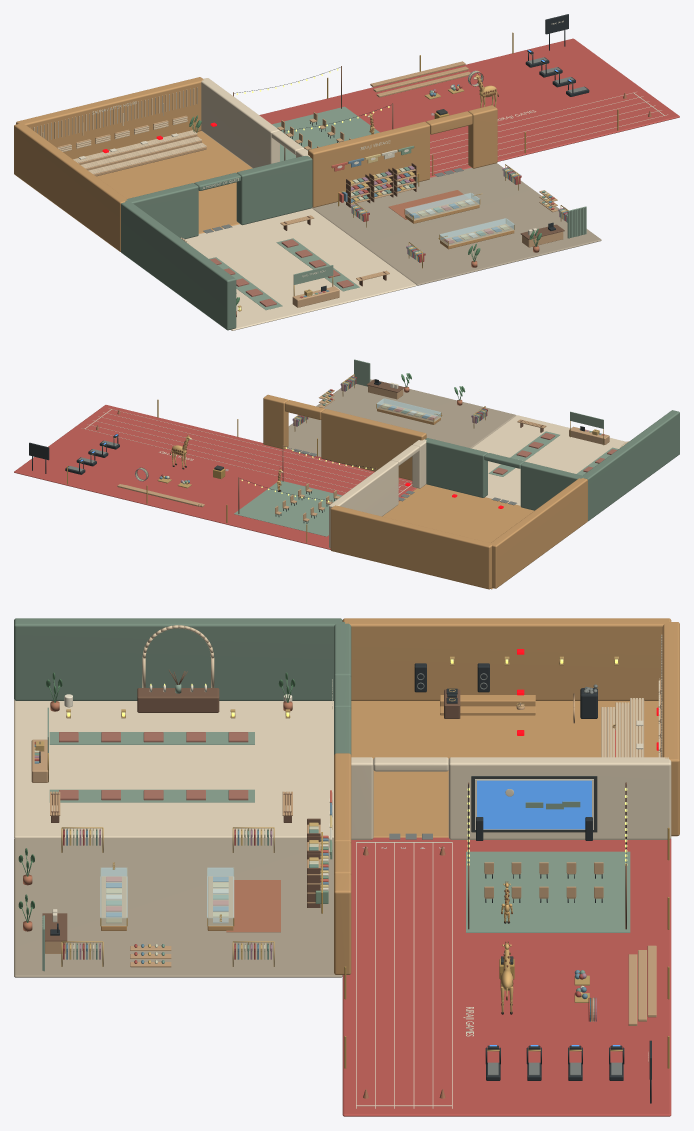
Rendered from riraji_normal.glb.
3 renders of one model, top to bottom at view 1: azimuth 30°, elevation 25°; view 2: azimuth 150°, elevation 25°; view 3: azimuth 270°, elevation 25°, orthographic. The views are drawn at different scales.
Parts seen in each view (by area): view 1: Sports_Floor, Vintage_Floor, Supporters_Floor, Vintage_Tshirt_Wall, Sauna_Back_Wall, Prayer_Back_Wall, Prayer_Left_Wall, Sauna_Left_Wall, Sauna_Floor, Shared_Sauna_Sports_Wall, V06_Cinema_zone, V06_Shop_rug (+8 smaller); view 2: Sports_Floor, Sauna_Back_Wall, Vintage_Floor, Vintage_Tshirt_Wall, Prayer_Back_Wall, Supporters_Floor, Sauna_Floor, Sauna_Left_Wall, Prayer_Left_Wall, V06_Cinema_zone, Shared_Sauna_Sports_Wall, V06_Woven_prayer_runner.001 (+4 smaller); view 3: Sports_Floor, Vintage_Floor, Supporters_Floor, Prayer_Left_Wall, Sauna_Left_Wall, Sauna_Floor, Shared_Sauna_Sports_Wall, V06_Cinema_zone, V06_Cinema_screen_content, Vintage_Tshirt_Wall, Sauna_Back_Wall, V06_Shop_rug (+11 smaller).
Boxes of the visible parts, x1,y1,x2,y2 form: Sports_Floor: (259, 38, 679, 177); Vintage_Floor: (312, 163, 601, 285); Supporters_Floor: (185, 208, 416, 330); Vintage_Tshirt_Wall: (308, 105, 497, 207); Sauna_Back_Wall: (16, 77, 203, 159); Prayer_Back_Wall: (125, 156, 312, 238); Prayer_Left_Wall: (121, 201, 236, 330); Sauna_Left_Wall: (14, 123, 127, 251); Sauna_Floor: (96, 131, 252, 233); Shared_Sauna_Sports_Wall: (201, 78, 309, 168); V06_Cinema_zone: (272, 106, 379, 161); V06_Shop_rug: (388, 190, 469, 219); Sports_Floor: (14, 405, 416, 549); Sauna_Back_Wall: (330, 505, 492, 589); Vintage_Floor: (287, 379, 515, 456); Vintage_Tshirt_Wall: (263, 394, 426, 480); Prayer_Back_Wall: (425, 438, 584, 510); Supporters_Floor: (471, 415, 626, 505); Sauna_Floor: (382, 484, 534, 589); Sauna_Left_Wall: (491, 478, 587, 588); Prayer_Left_Wall: (582, 410, 679, 521); V06_Cinema_zone: (234, 480, 342, 536); Shared_Sauna_Sports_Wall: (329, 439, 426, 548); V06_Woven_prayer_runner.001: (488, 431, 559, 476); Sports_Floor: (342, 837, 671, 1116); Vintage_Floor: (14, 837, 342, 977); Supporters_Floor: (14, 700, 333, 837); Prayer_Left_Wall: (14, 618, 342, 700); Sauna_Left_Wall: (342, 618, 671, 700); Sauna_Floor: (351, 701, 662, 837); Shared_Sauna_Sports_Wall: (351, 757, 671, 839); V06_Cinema_zone: (466, 851, 630, 932); V06_Cinema_screen_content: (477, 780, 591, 829); Vintage_Tshirt_Wall: (334, 753, 351, 974); Sauna_Back_Wall: (662, 622, 679, 836); V06_Shop_rug: (226, 880, 280, 932).
Size of the model in its own units: 72.63 by 7 by 48.63.
